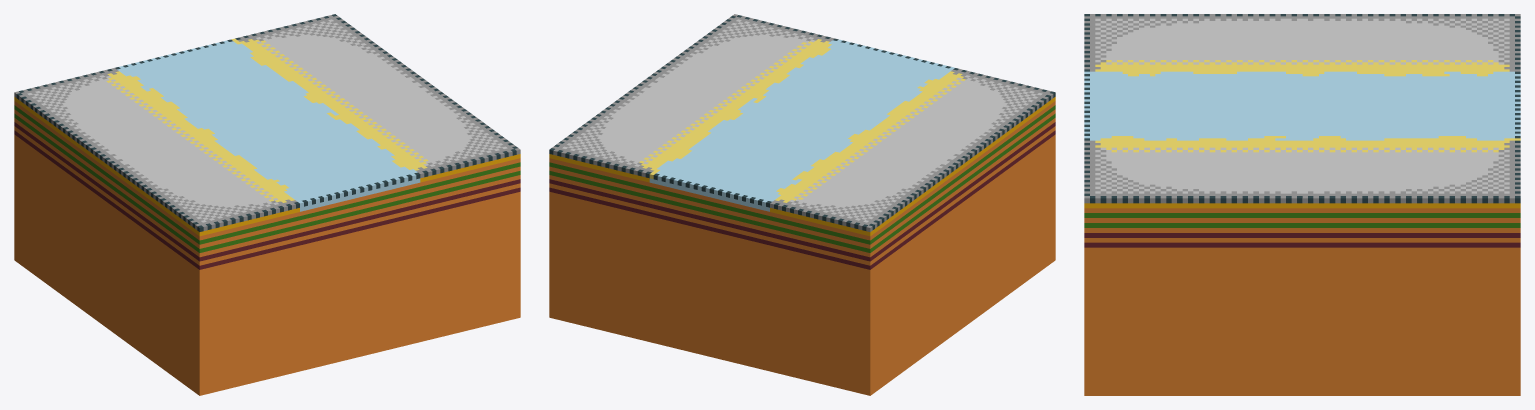
The model's file is ice_river_1_tile.obj.
The picture shows the model from 3 angles, left to right: view 1: azimuth 30°, elevation 25°; view 2: azimuth 150°, elevation 25°; view 3: azimuth 270°, elevation 25°; orthographic projection. The views are drawn at different scales.
Bounding box in the file's own units: 8 × 4 × 8.
Materials: 1 (1 with a texture image).
